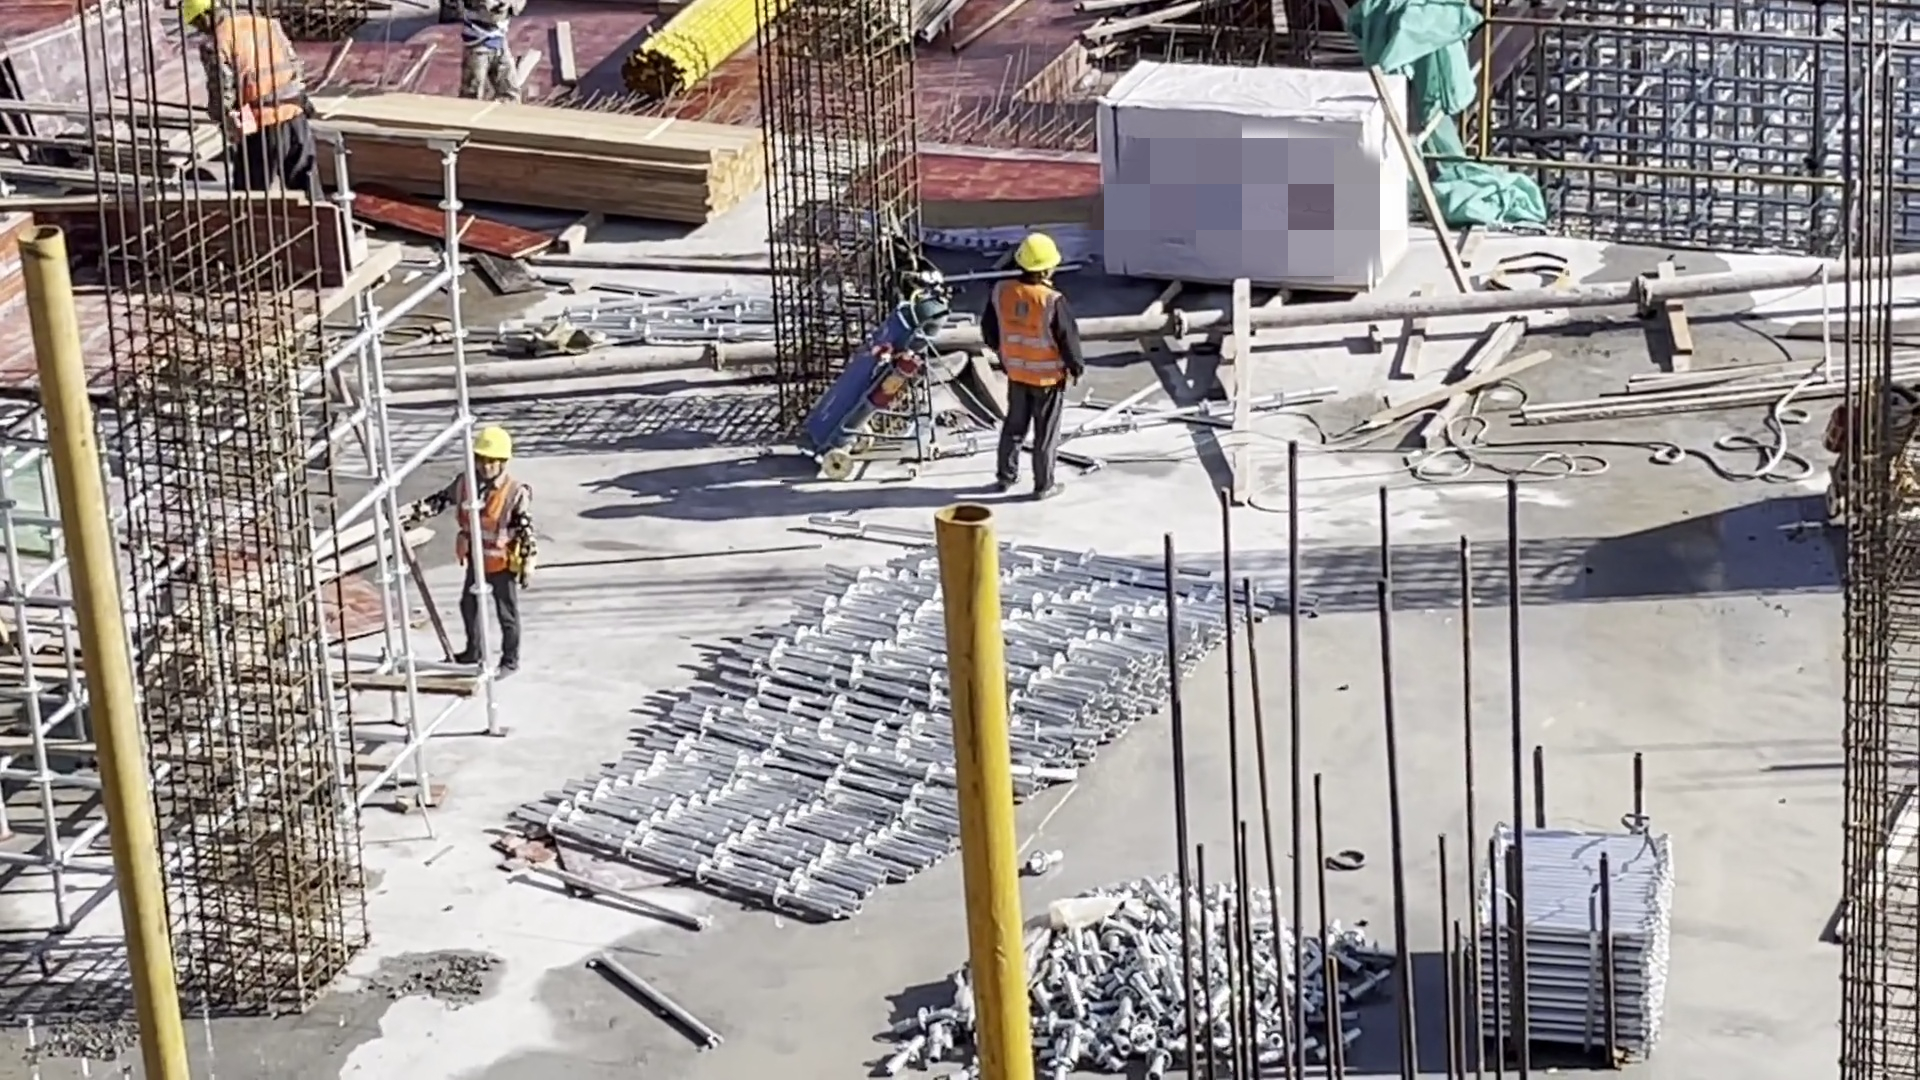helmet: (1013, 231, 1062, 270), (472, 422, 511, 463), (185, 7, 209, 29)
person: (412, 426, 534, 668), (188, 5, 311, 189), (991, 231, 1071, 498), (451, 2, 537, 98)
scaffold: (507, 509, 1325, 918), (1465, 823, 1667, 1063)
vest: (209, 11, 307, 139), (995, 278, 1070, 393), (458, 475, 517, 585)
wood: (325, 91, 766, 223)
